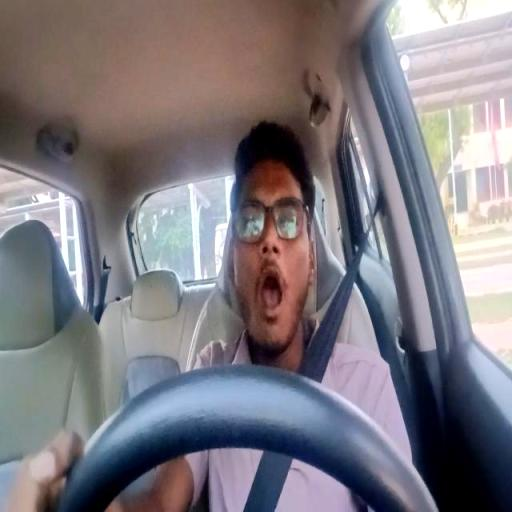yawns: (228, 120, 318, 356)
